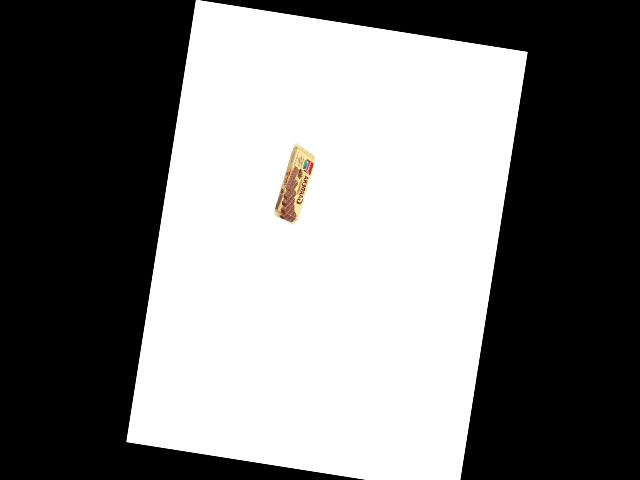chocolate: (275, 140, 318, 229)
